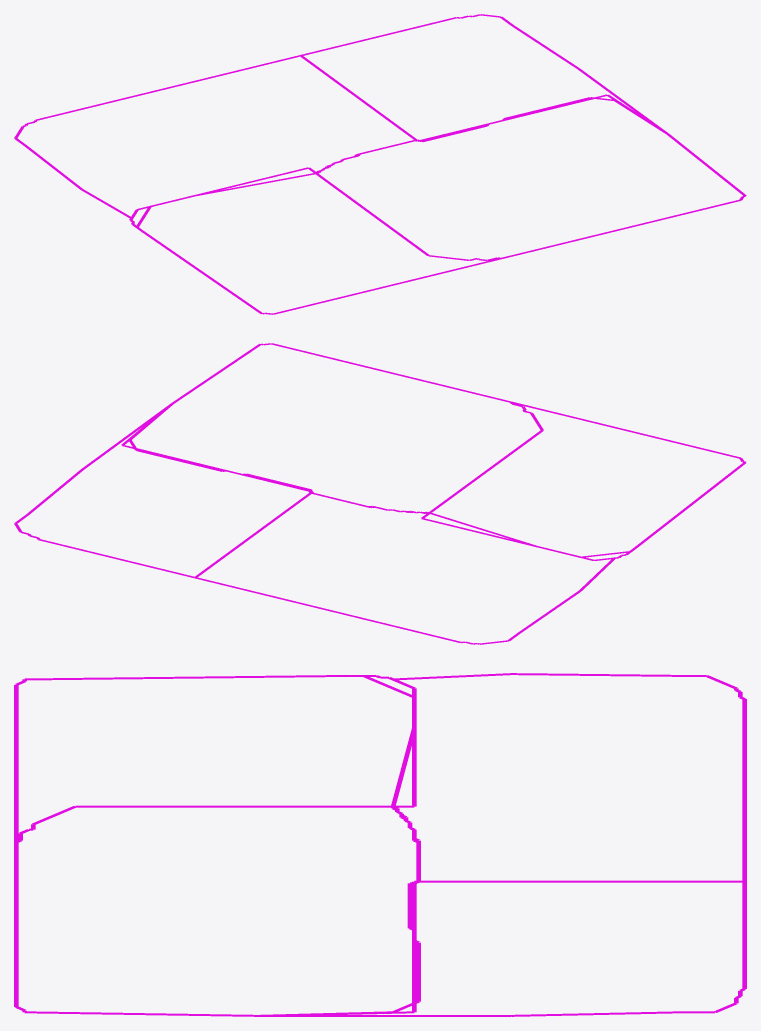
File: route_overlay_code_transform_magenta.dae
3 renders of one model, top to bottom at view 1: azimuth 30°, elevation 25°; view 2: azimuth 150°, elevation 25°; view 3: azimuth 270°, elevation 25°, orthographic. The views are drawn at different scales.
Parts seen in each view (by area): view 1: route_preview_node; view 2: route_preview_node; view 3: route_preview_node.
Boxes of the visible parts, left/top/right/bottom form: route_preview_node: left=14, top=14, right=746, bottom=314; route_preview_node: left=14, top=343, right=746, bottom=644; route_preview_node: left=14, top=673, right=746, bottom=1016.
Bounding box in the file's own units: 4.5 × 4.06 × 0.
